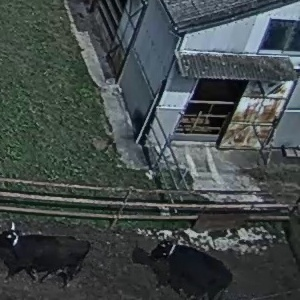cow: (123, 227, 244, 300), (2, 221, 103, 285)
